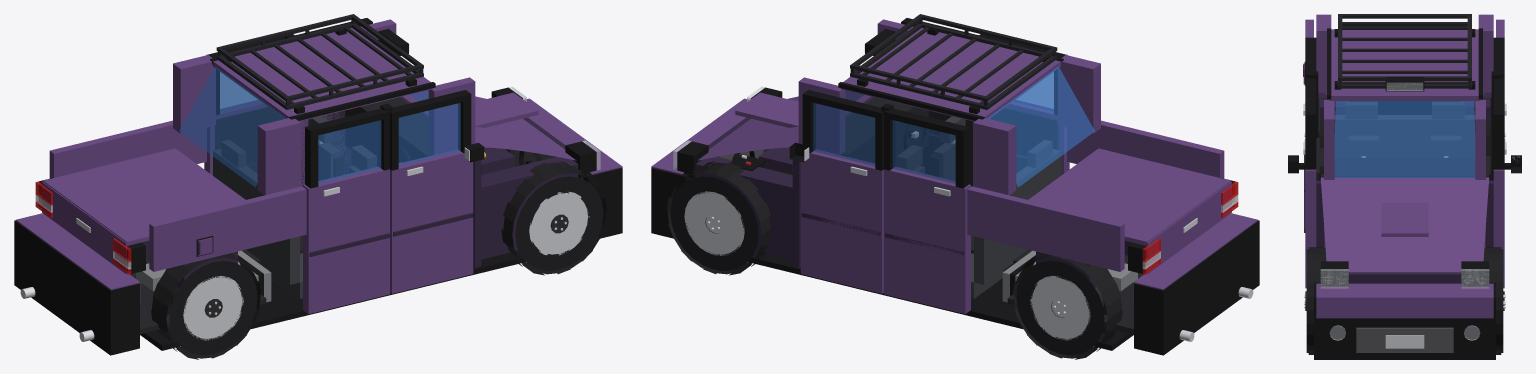
Rendered from car_modular.obj.
3 renders of one model, left to right at view 1: azimuth 30°, elevation 25°; view 2: azimuth 150°, elevation 25°; view 3: azimuth 270°, elevation 25°, orthographic. The views are drawn at different scales.
Visible parts, largest first — view 1: Chassis_Shell, Door_Rear_L, Door_Front_L, Trunk_Lid, Rear_Bumper, Wheel_RL, Wheel_FL, Roof_Rack, Hood, Door_Rear_R, Seat_Rear, Front_Bumper (+8 smaller); view 2: Chassis_Shell, Door_Rear_R, Door_Front_R, Trunk_Lid, Rear_Bumper, Wheel_RR, Wheel_FR, Roof_Rack, Hood, Door_Rear_L, Seat_Rear, Front_Bumper (+8 smaller); view 3: Chassis_Shell, Hood, Front_Bumper, Roof_Rack, Seat_Rear, Door_Front_L, Door_Front_R, Wheel_FL, Wheel_FR, Rear_Bumper, Headlight_L, Headlight_R (+4 smaller).
Boxes of the visible parts, left/top/right/bottom form: Chassis_Shell: left=49, top=19, right=583, bottom=350; Door_Rear_L: left=303, top=108, right=389, bottom=314; Door_Front_L: left=390, top=90, right=484, bottom=293; Trunk_Lid: left=42, top=148, right=245, bottom=273; Rear_Bumper: left=14, top=213, right=140, bottom=355; Wheel_RL: left=151, top=253, right=261, bottom=359; Wheel_FL: left=501, top=161, right=607, bottom=275; Roof_Rack: left=216, top=14, right=423, bottom=114; Hood: left=403, top=90, right=576, bottom=160; Door_Rear_R: left=204, top=36, right=285, bottom=175; Seat_Rear: left=213, top=139, right=302, bottom=298; Front_Bumper: left=525, top=98, right=622, bottom=238; Chassis_Shell: left=690, top=19, right=1224, bottom=350; Door_Rear_R: left=884, top=108, right=970, bottom=314; Door_Front_R: left=789, top=90, right=883, bottom=293; Trunk_Lid: left=1028, top=148, right=1231, bottom=273; Rear_Bumper: left=1133, top=213, right=1259, bottom=355; Wheel_RR: left=1012, top=253, right=1122, bottom=359; Wheel_FR: left=666, top=161, right=772, bottom=275; Roof_Rack: left=850, top=14, right=1057, bottom=114; Hood: left=697, top=90, right=870, bottom=160; Door_Rear_L: left=988, top=36, right=1069, bottom=175; Seat_Rear: left=971, top=139, right=1060, bottom=298; Front_Bumper: left=651, top=98, right=748, bottom=238; Chassis_Shell: left=1303, top=14, right=1504, bottom=283; Hood: left=1320, top=177, right=1489, bottom=272; Front_Bumper: left=1314, top=282, right=1495, bottom=359; Roof_Rack: left=1334, top=14, right=1475, bottom=91; Seat_Rear: left=1334, top=101, right=1475, bottom=157; Door_Front_L: left=1288, top=77, right=1319, bottom=288; Door_Front_R: left=1490, top=77, right=1521, bottom=288; Wheel_FL: left=1304, top=247, right=1326, bottom=354; Wheel_FR: left=1483, top=247, right=1505, bottom=354; Rear_Bumper: left=1349, top=101, right=1460, bottom=114; Headlight_L: left=1320, top=261, right=1348, bottom=288; Headlight_R: left=1461, top=261, right=1489, bottom=288.
Bounding box in the file's own units: 5.36 × 2.22 × 2.16.
